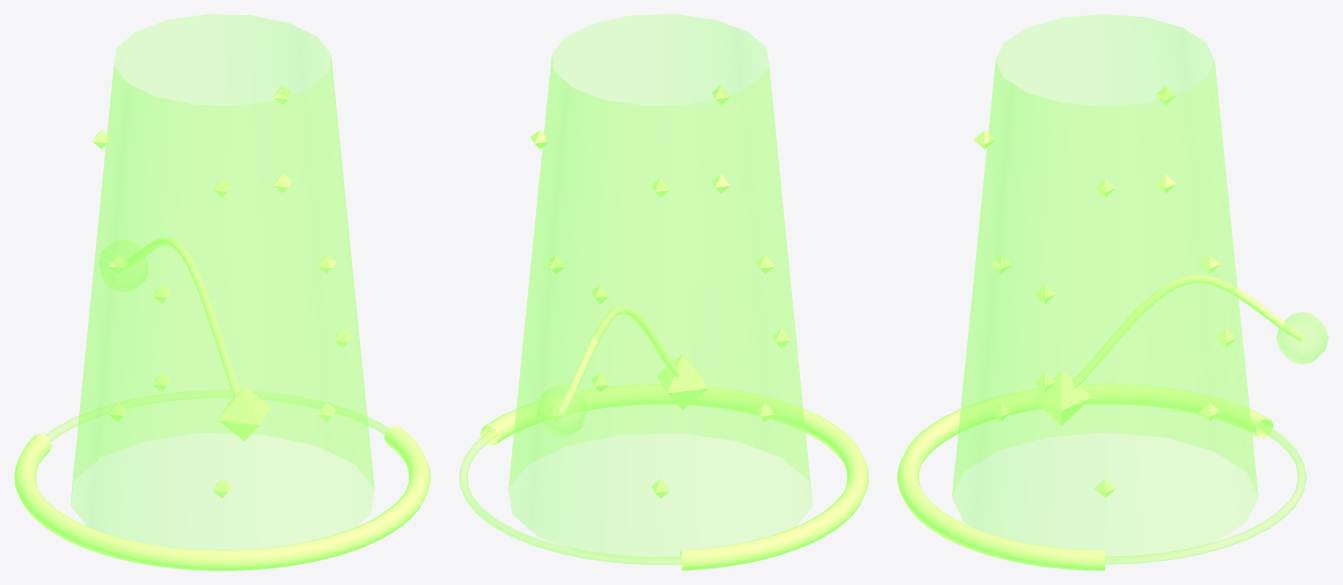
Rendered from vfx_revive_beam.glb.
3 renders of one model, left to right at view 1: azimuth 30°, elevation 25°; view 2: azimuth 150°, elevation 25°; view 3: azimuth 270°, elevation 25°, orthographic.
Parts seen in each view (by area): view 1: revive_column, revive_progress, revive_track, revive_tether, revive_hand_glow, revive_heart; view 2: revive_column, revive_progress, revive_track, revive_hand_glow, revive_tether, revive_heart; view 3: revive_column, revive_progress, revive_track, revive_tether, revive_hand_glow, revive_heart.
Boxes of the visible parts, <box> form: revive_column: <box>70,14,374,549</box>; revive_progress: <box>14,425,430,570</box>; revive_track: <box>45,390,389,441</box>; revive_tether: <box>123,237,239,397</box>; revive_hand_glow: <box>99,240,148,291</box>; revive_heart: <box>218,386,270,441</box>; revive_column: <box>508,14,812,556</box>; revive_progress: <box>480,384,868,570</box>; revive_track: <box>459,429,682,564</box>; revive_hand_glow: <box>536,384,586,436</box>; revive_tether: <box>558,305,679,413</box>; revive_heart: <box>656,354,708,409</box>; revive_column: <box>952,14,1258,556</box>; revive_progress: <box>897,384,1273,570</box>; revive_track: <box>1105,422,1306,564</box>; revive_tether: <box>1072,274,1304,387</box>; revive_hand_glow: <box>1276,312,1328,364</box>; revive_heart: <box>1031,370,1091,425</box>.
Size of the model in its own units: 1.9 by 2.2 by 1.97.
